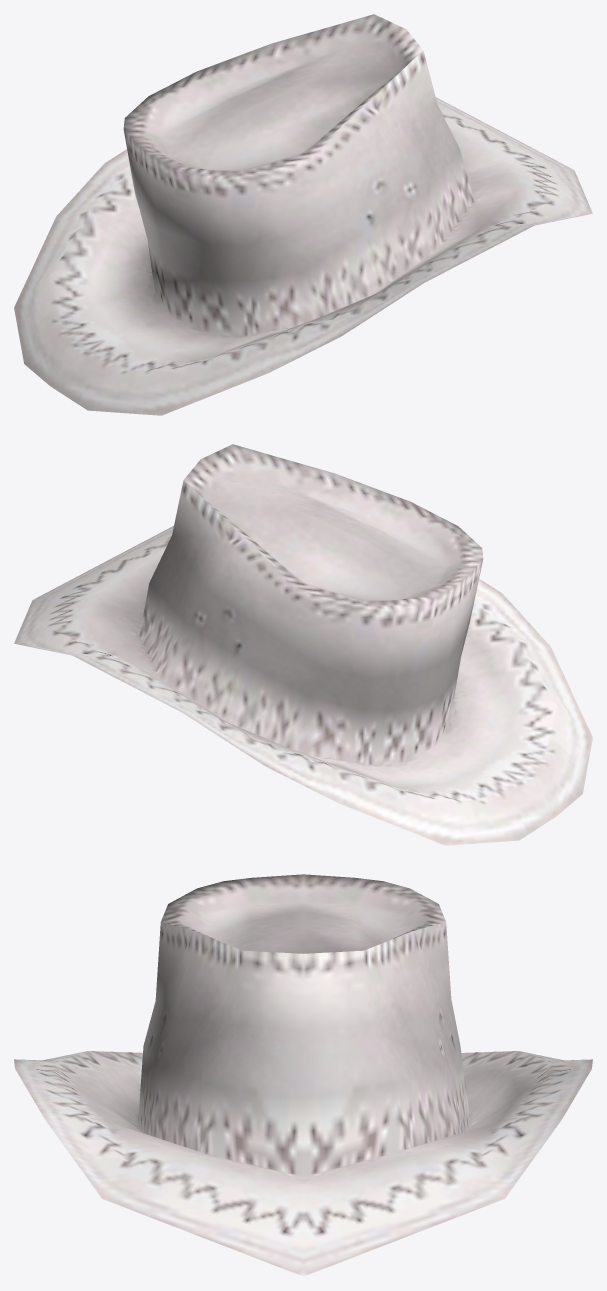
The model's file is hat_0450008.FBX.
3 renders of one model, top to bottom at view 1: azimuth 30°, elevation 25°; view 2: azimuth 150°, elevation 25°; view 3: azimuth 270°, elevation 25°, orthographic. The views are drawn at different scales.
Parts seen in each view (by area): view 1: hat_0450008; view 2: hat_0450008; view 3: hat_0450008.
Boxes of the visible parts, x1,y1,x2,y2 form: hat_0450008: (14,14,592,415); hat_0450008: (14,444,592,845); hat_0450008: (14,874,592,1276).
Bounding box in the file's own units: 45.79 × 22.74 × 35.81.
